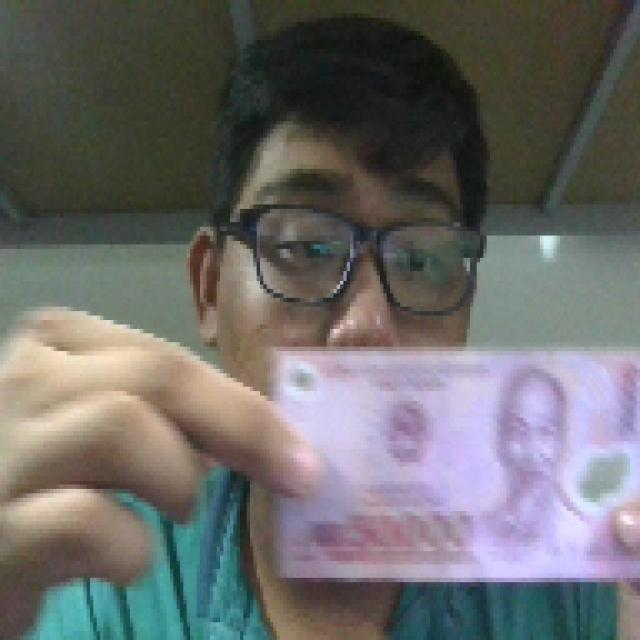50 000 VND: (260, 338, 637, 586)
